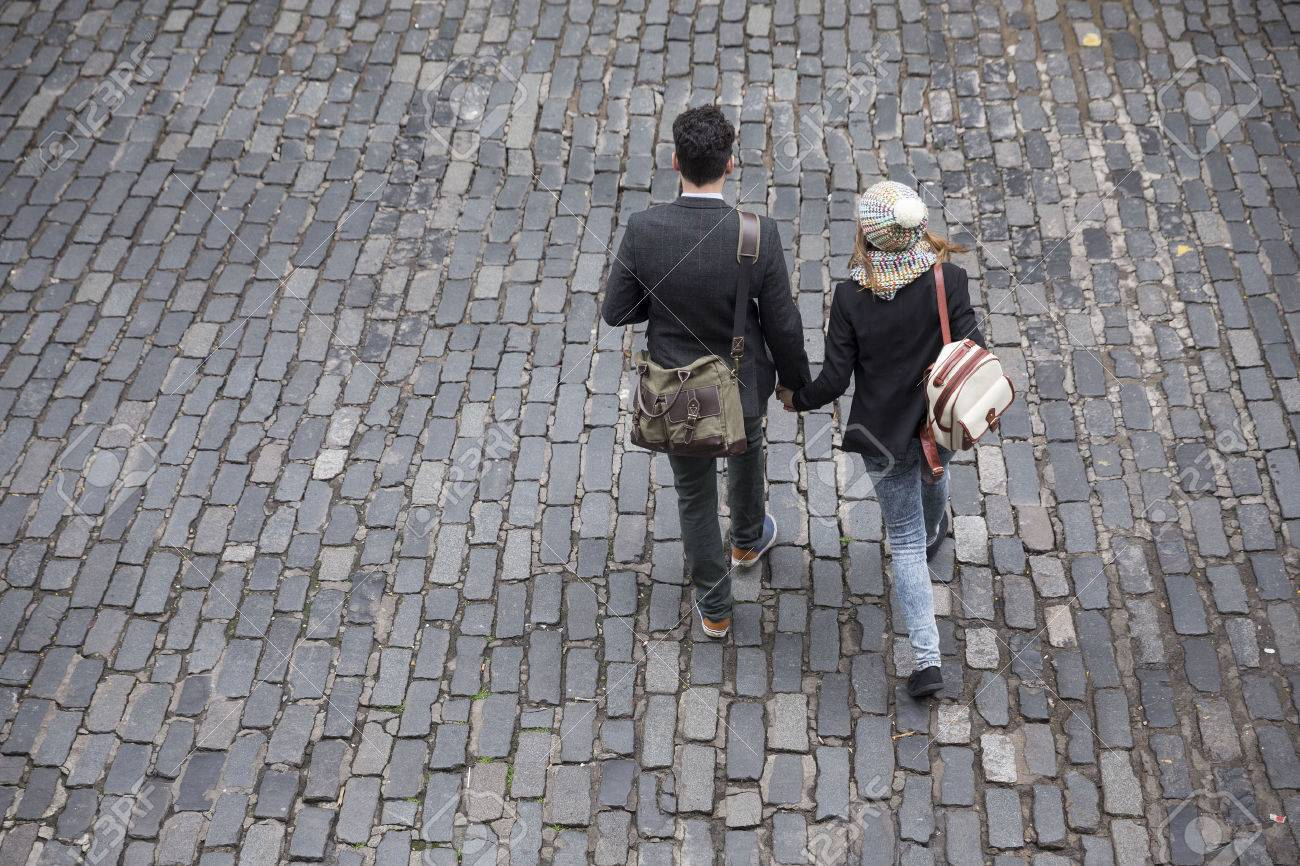Person: (593, 104, 814, 652), (801, 172, 1010, 719)
